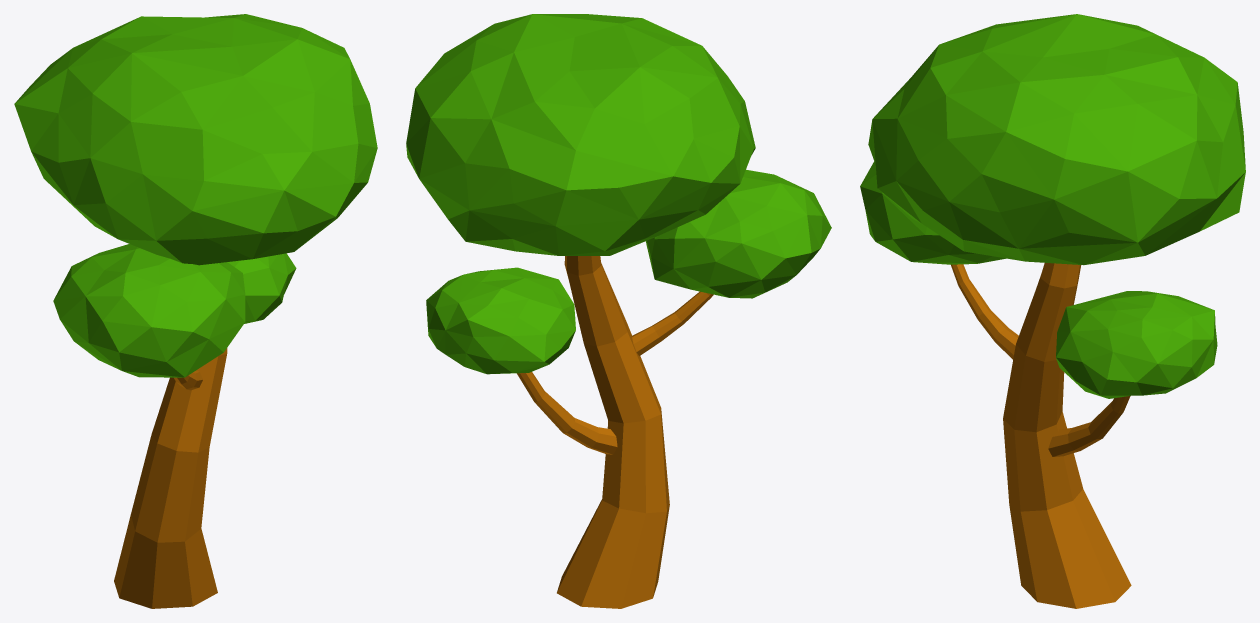
File: (old)GEO_tree_large_3.fbx
3 renders of one model, left to right at view 1: azimuth 30°, elevation 25°; view 2: azimuth 150°, elevation 25°; view 3: azimuth 270°, elevation 25°, orthographic. The views are drawn at different scales.
Parts seen in each view (by area): view 1: GEO_tree_large_3_top, GEO_tree_large_3_leaves_2, GEO_tree_large_3_trunk, GEO_tree_large_3_leaves_1; view 2: GEO_tree_large_3_top, GEO_tree_large_3_trunk, GEO_tree_large_3_leaves_2, GEO_tree_large_3_leaves_1, GEO_tree_large_3_branch_1, GEO_tree_large_3_branch_2; view 3: GEO_tree_large_3_top, GEO_tree_large_3_trunk, GEO_tree_large_3_leaves_1, GEO_tree_large_3_leaves_2, GEO_tree_large_3_branch_1, GEO_tree_large_3_branch_2.
Part boxes in pixels (x1,y1,x2,y2): GEO_tree_large_3_top: (14,14,377,265); GEO_tree_large_3_leaves_2: (53,244,245,377); GEO_tree_large_3_trunk: (114,348,227,608); GEO_tree_large_3_leaves_1: (228,253,296,323); GEO_tree_large_3_top: (406,14,755,255); GEO_tree_large_3_trunk: (557,256,669,608); GEO_tree_large_3_leaves_2: (645,169,831,298); GEO_tree_large_3_leaves_1: (426,267,575,374); GEO_tree_large_3_branch_1: (517,372,617,454); GEO_tree_large_3_branch_2: (632,291,713,356); GEO_tree_large_3_top: (868,14,1245,265); GEO_tree_large_3_trunk: (1003,263,1131,608); GEO_tree_large_3_leaves_1: (1056,291,1217,398); GEO_tree_large_3_leaves_2: (860,161,1005,264); GEO_tree_large_3_branch_1: (1048,396,1130,456); GEO_tree_large_3_branch_2: (951,264,1018,359).
Bounding box in the file's own units: 7.3 × 11.1 × 6.99.
